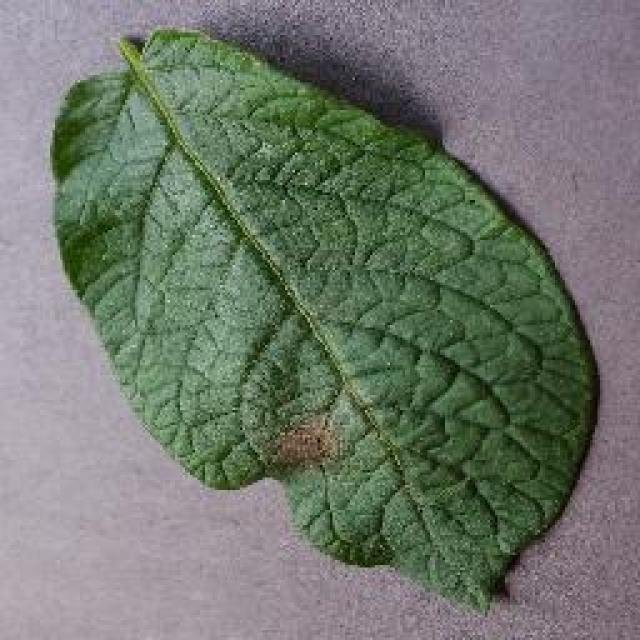Potato___Late_blight: (45, 23, 603, 623)
